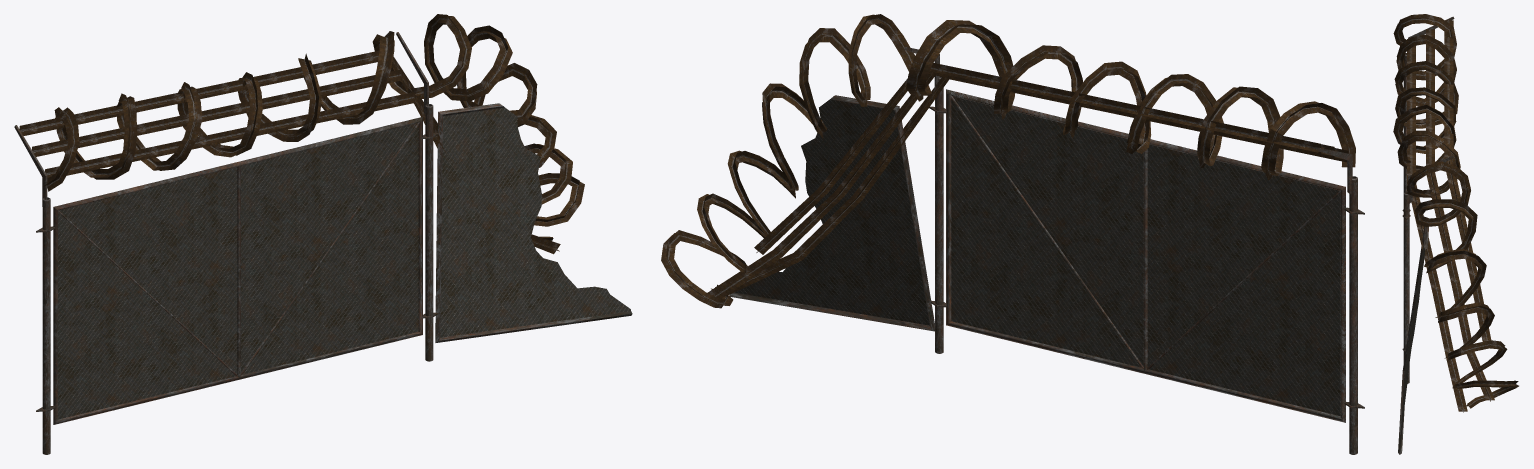
Rendered from Fence_metal_04.FBX.
3 renders of one model, left to right at view 1: azimuth 30°, elevation 25°; view 2: azimuth 150°, elevation 25°; view 3: azimuth 270°, elevation 25°, orthographic. The views are drawn at different scales.
Visible parts, largest first — view 1: Fence_metal_grid_04, Fence_metal_wire_04, Fence_metal_04; view 2: Fence_metal_grid_04, Fence_metal_wire_04, Fence_metal_04; view 3: Fence_metal_wire_04, Fence_metal_04, Fence_metal_grid_04.
Part boxes in pixels (box(x1,y1,x2,y2)): Fence_metal_grid_04: box(58, 107, 630, 419); Fence_metal_wire_04: box(19, 14, 584, 254); Fence_metal_04: box(14, 32, 632, 454); Fence_metal_grid_04: box(734, 96, 1340, 416); Fence_metal_wire_04: box(661, 14, 1355, 308); Fence_metal_04: box(729, 47, 1364, 454); Fence_metal_wire_04: box(1393, 14, 1518, 412); Fence_metal_04: box(1398, 16, 1454, 454); Fence_metal_grid_04: box(1400, 241, 1425, 449).
Size of the model in its own units: 561 by 295 by 139.
